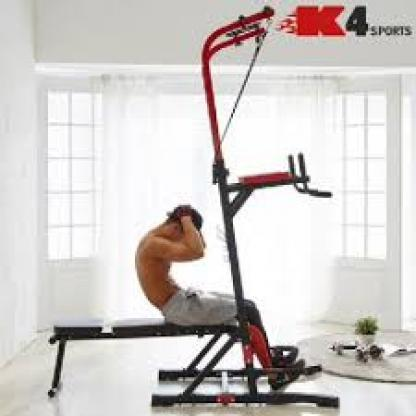chinning dipping: (203, 39, 342, 410)
